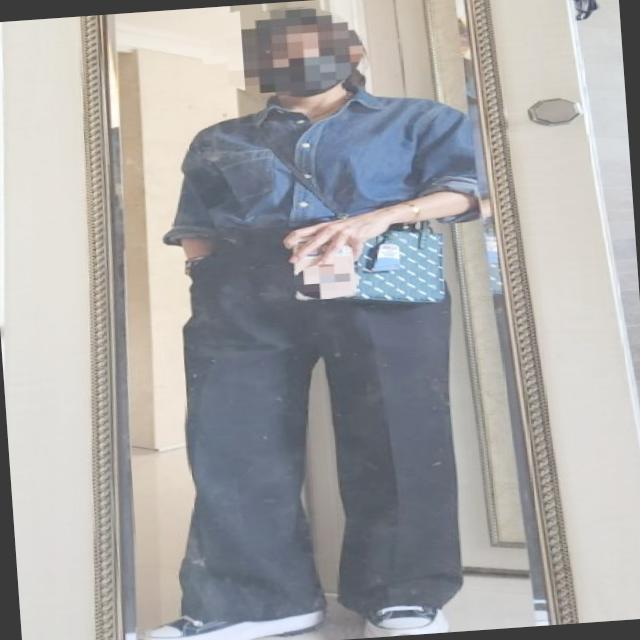shirt: (161, 79, 477, 251)
slacks: (158, 232, 464, 622)
